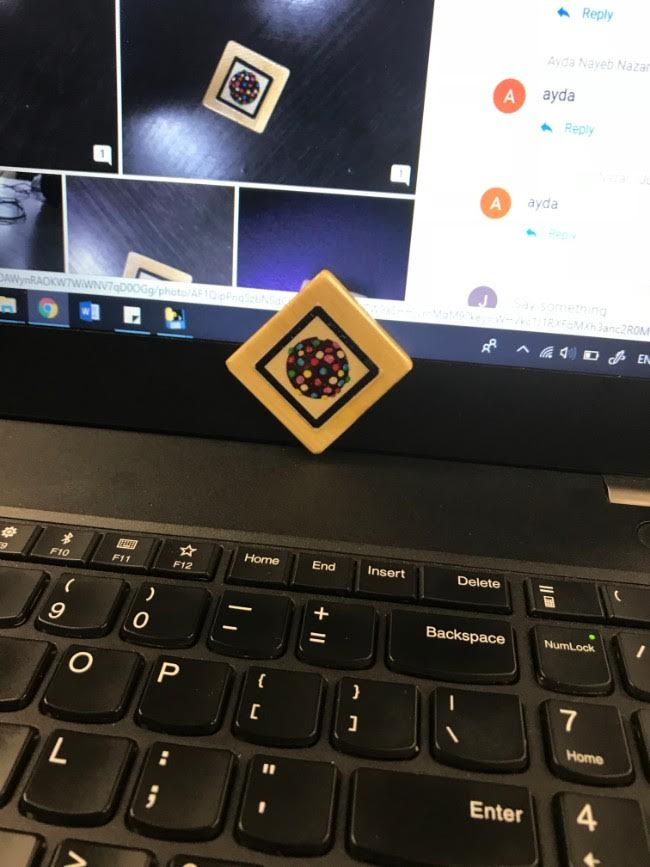cookie: (255, 302, 380, 429), (215, 54, 274, 121)
